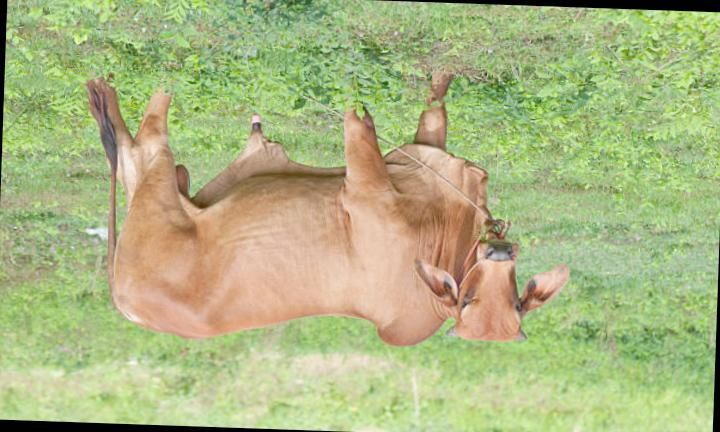Brahman: (89, 76, 570, 346)
